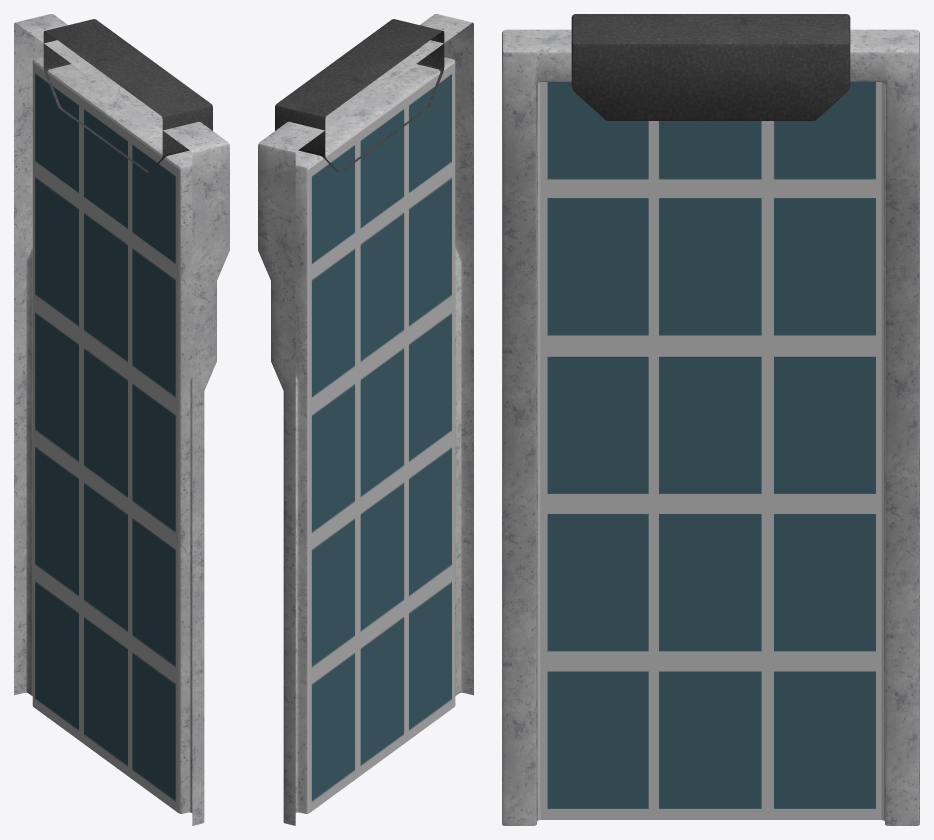
File: Door.fbx
3 views of the same model, side by side, from view 1: azimuth 30°, elevation 25°; view 2: azimuth 150°, elevation 25°; view 3: azimuth 270°, elevation 25° (orthographic). The views are drawn at different scales.
Visible parts, largest first — view 1: Door; view 2: Door; view 3: Door.
Boxes of the visible parts, left/top/right/bottom form: Door: left=14, top=14, right=229, bottom=825; Door: left=258, top=14, right=473, bottom=825; Door: left=502, top=14, right=919, bottom=825.
Size of the model in its own units: 120 by 255 by 20.
2 materials, 2 textured.
